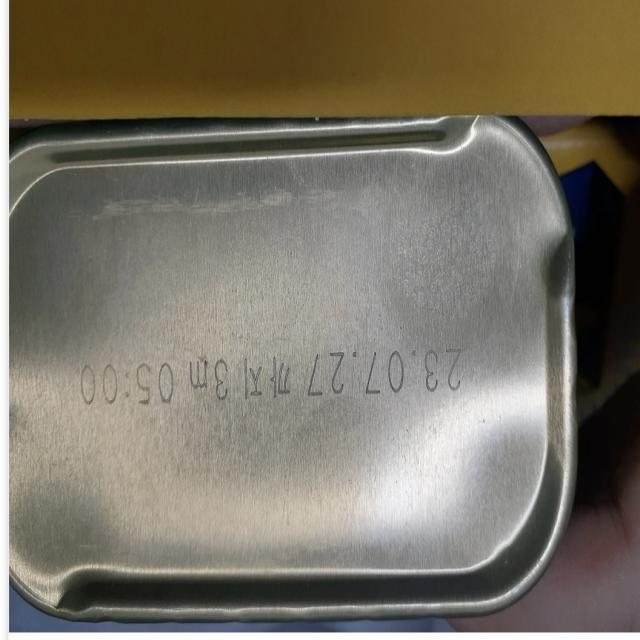can: (0, 100, 592, 632)
